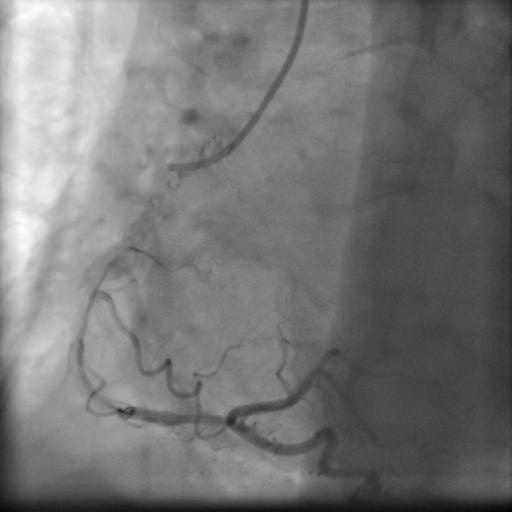Stenosis: (176, 407, 229, 434)
